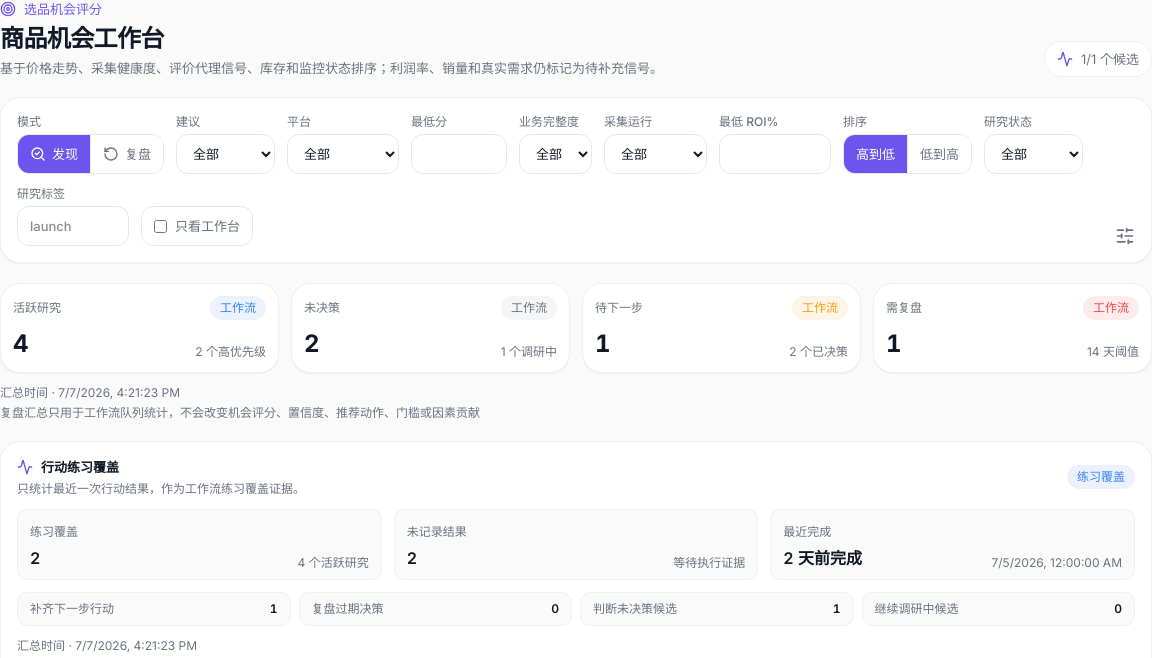
Opportunities page › prefills action outcome type from a selected practice bucket
Click the button with aria-label "筛选行动分桶：判断未决策候选". click: {"x": 635, "y": 608}
box: x1=580 y1=592 x2=854 y2=626
(page scrolled)
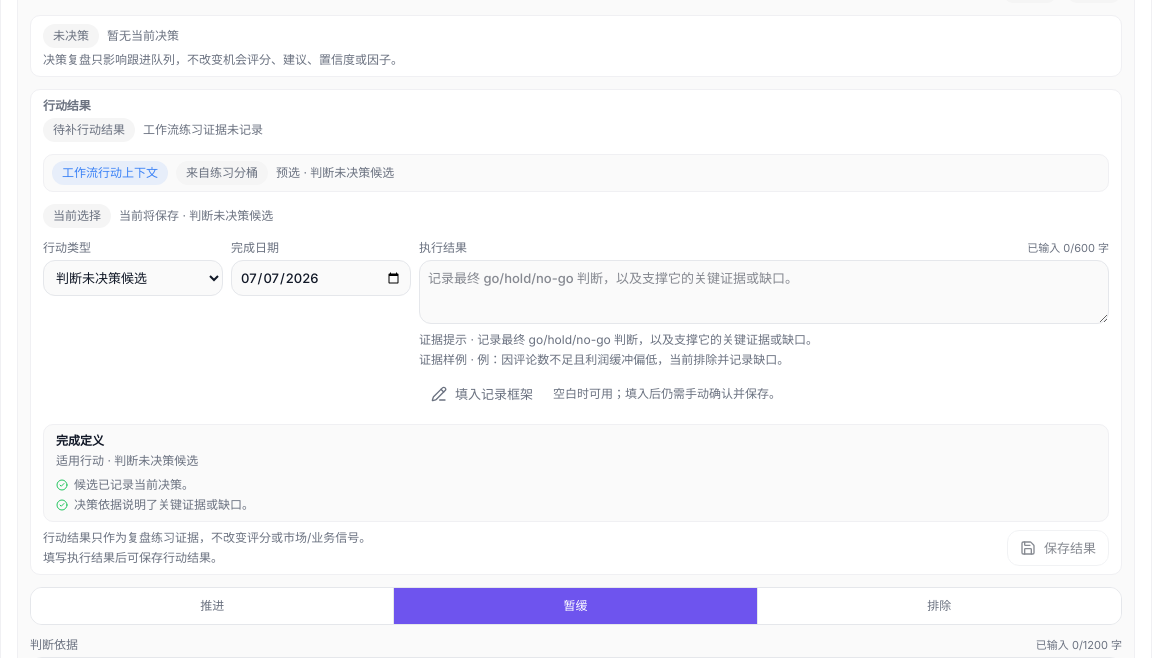
Expected: the text "工作流行动上下文" is shown, x1=52 y1=161 x2=168 y2=185
Expected: the text "来自练习分桶" is shown, x1=176 y1=161 x2=268 y2=185
Expected: the message named "工作流行动上下文：来自练习分桶，预选 判断未决策候选" is shown, x1=43 y1=154 x2=1109 y2=192
